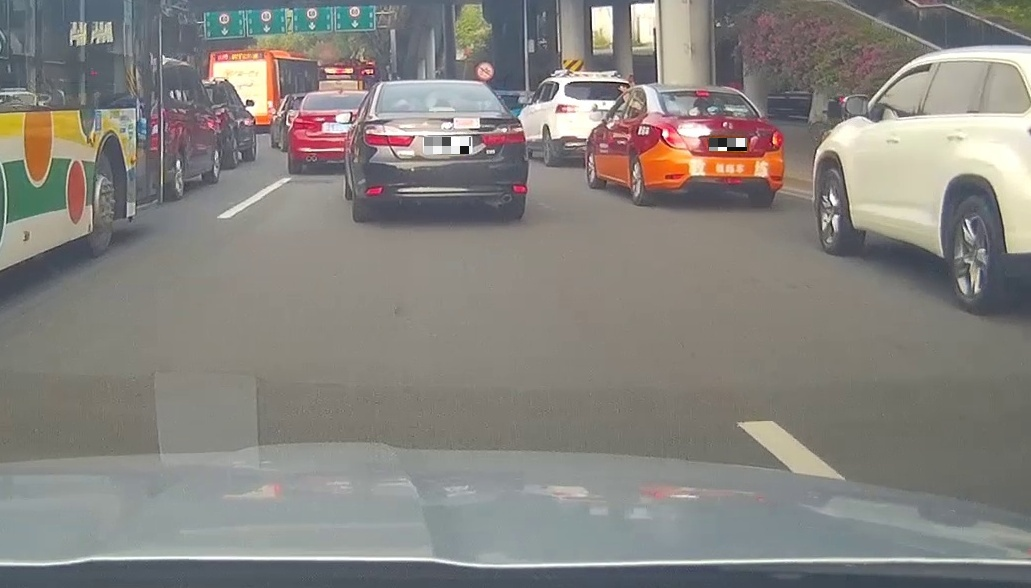L_light: (364, 125, 415, 148), (662, 131, 701, 150)
R_light: (481, 124, 526, 145), (753, 130, 782, 149)
T_light: (427, 106, 456, 112), (695, 90, 711, 96)
day-brake: (656, 84, 784, 206)
day-no: (352, 80, 529, 222)
plate_1: (424, 137, 471, 154)
plate_2: (709, 138, 747, 151)
